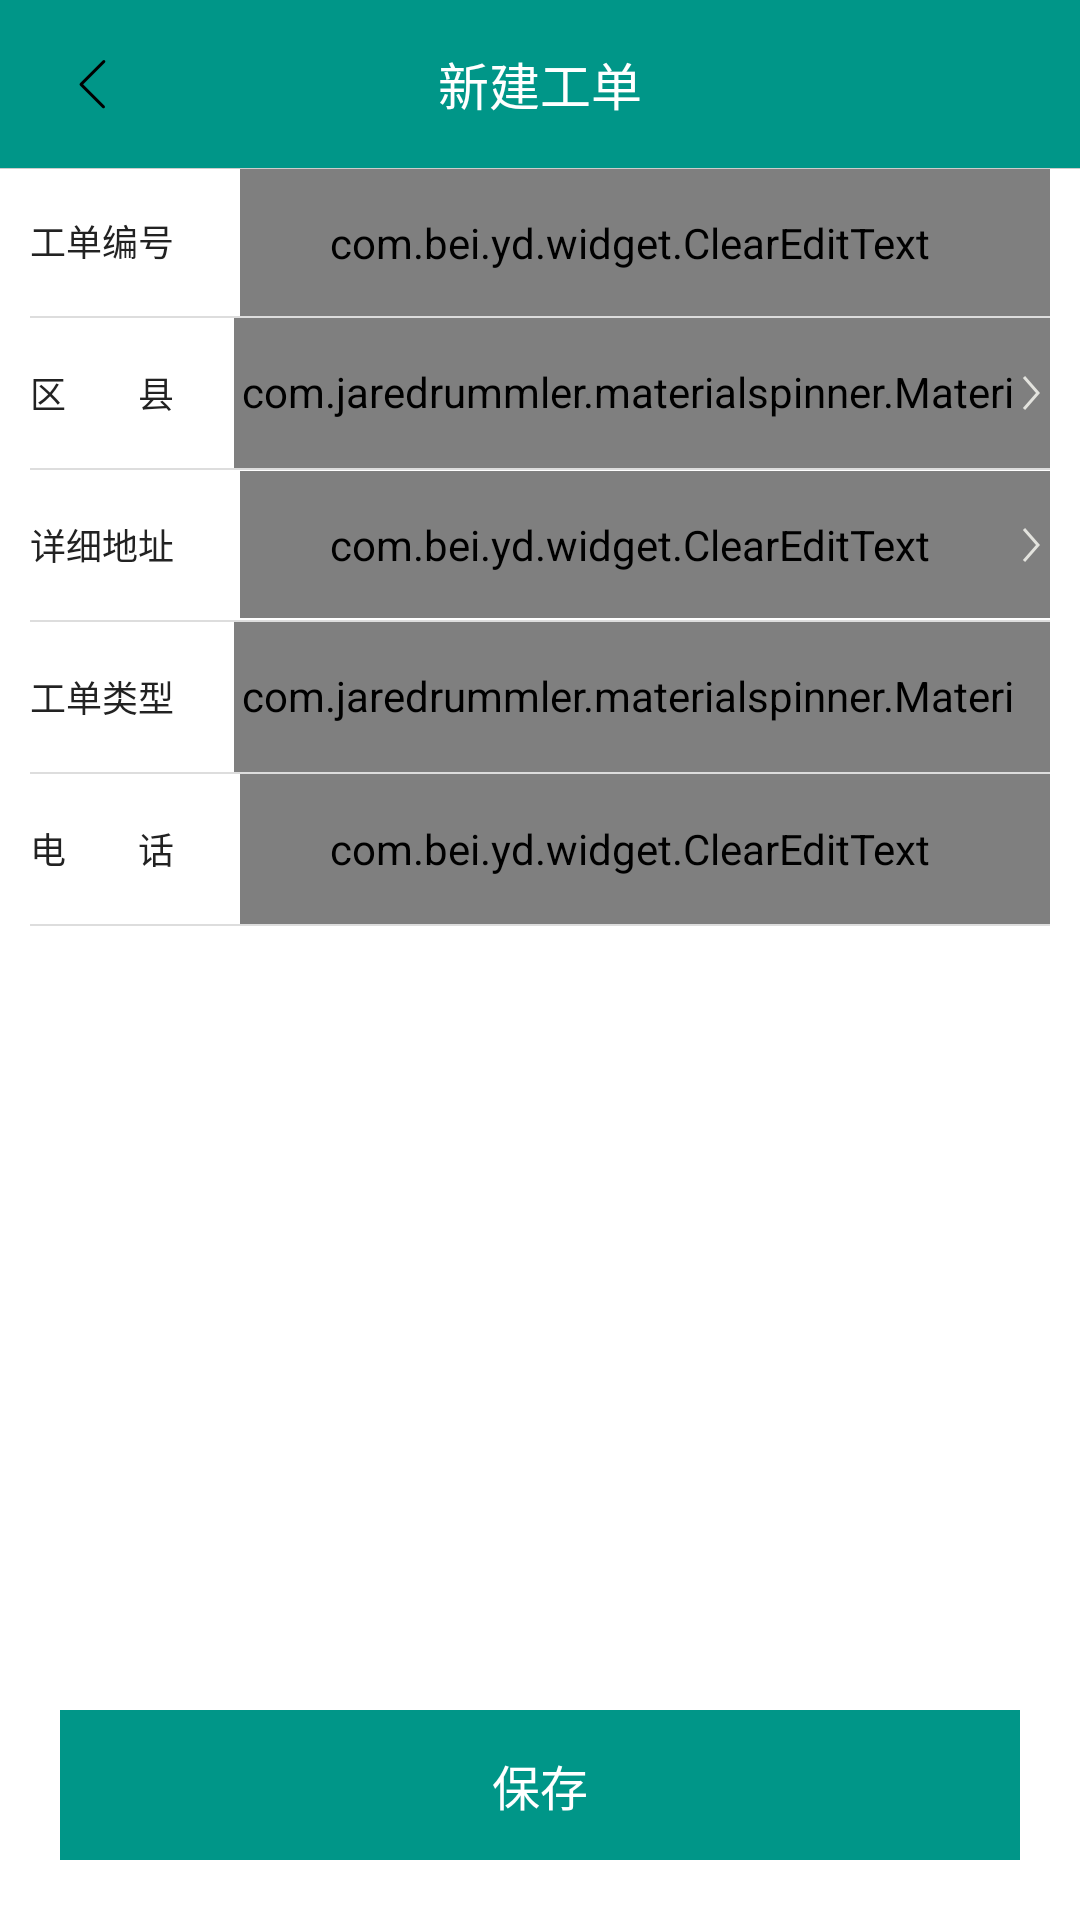

Where to tap for icons on this 1080 x 1920 app screen, as (x,y):
title back: (92,84)
